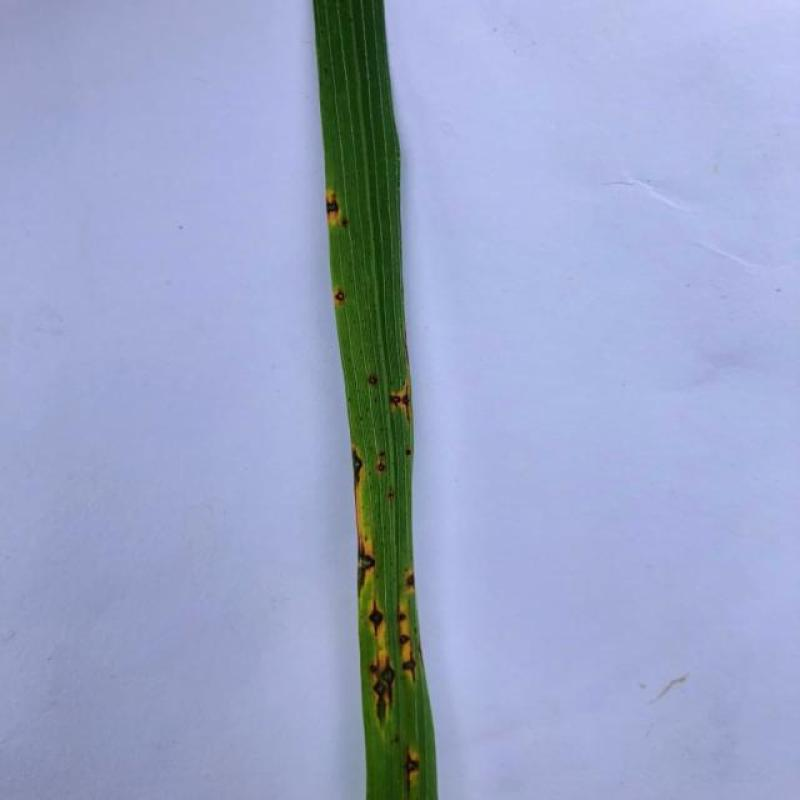Leaf_Blast: (368, 645, 404, 749), (396, 598, 420, 678), (395, 747, 430, 800), (355, 516, 376, 602), (358, 525, 382, 600), (365, 595, 395, 645), (388, 376, 412, 427), (326, 184, 352, 230), (350, 444, 368, 503), (351, 446, 364, 499), (364, 370, 382, 394), (403, 564, 415, 595), (332, 290, 352, 305)
